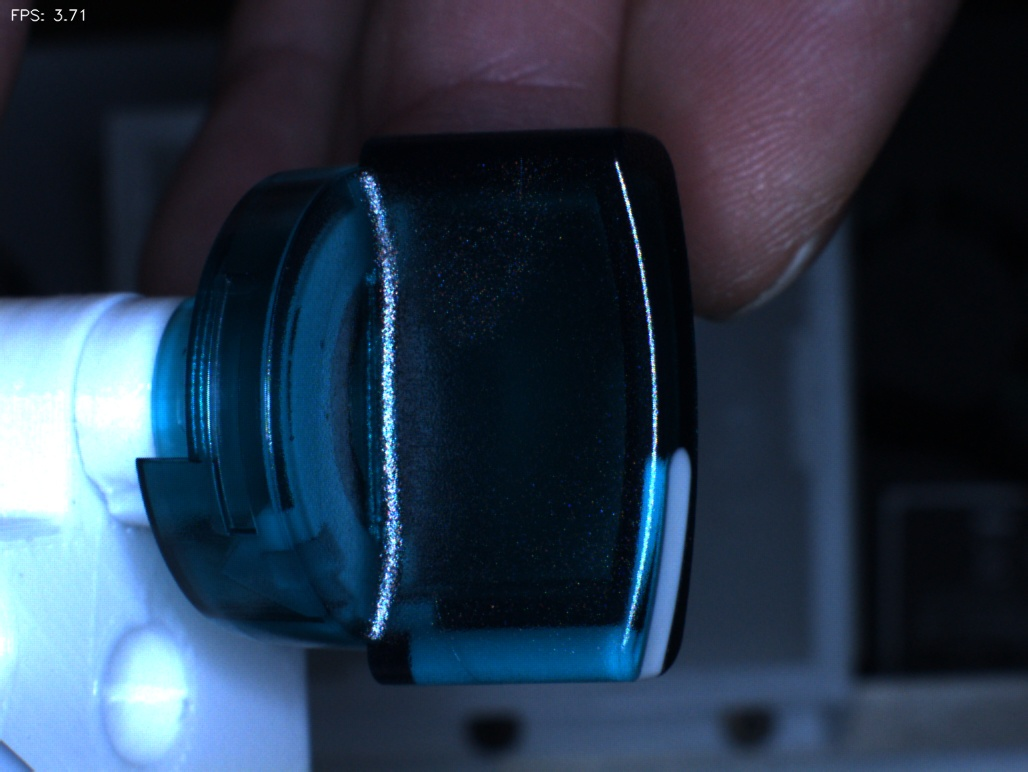PointNoir: (292, 303, 361, 379)
